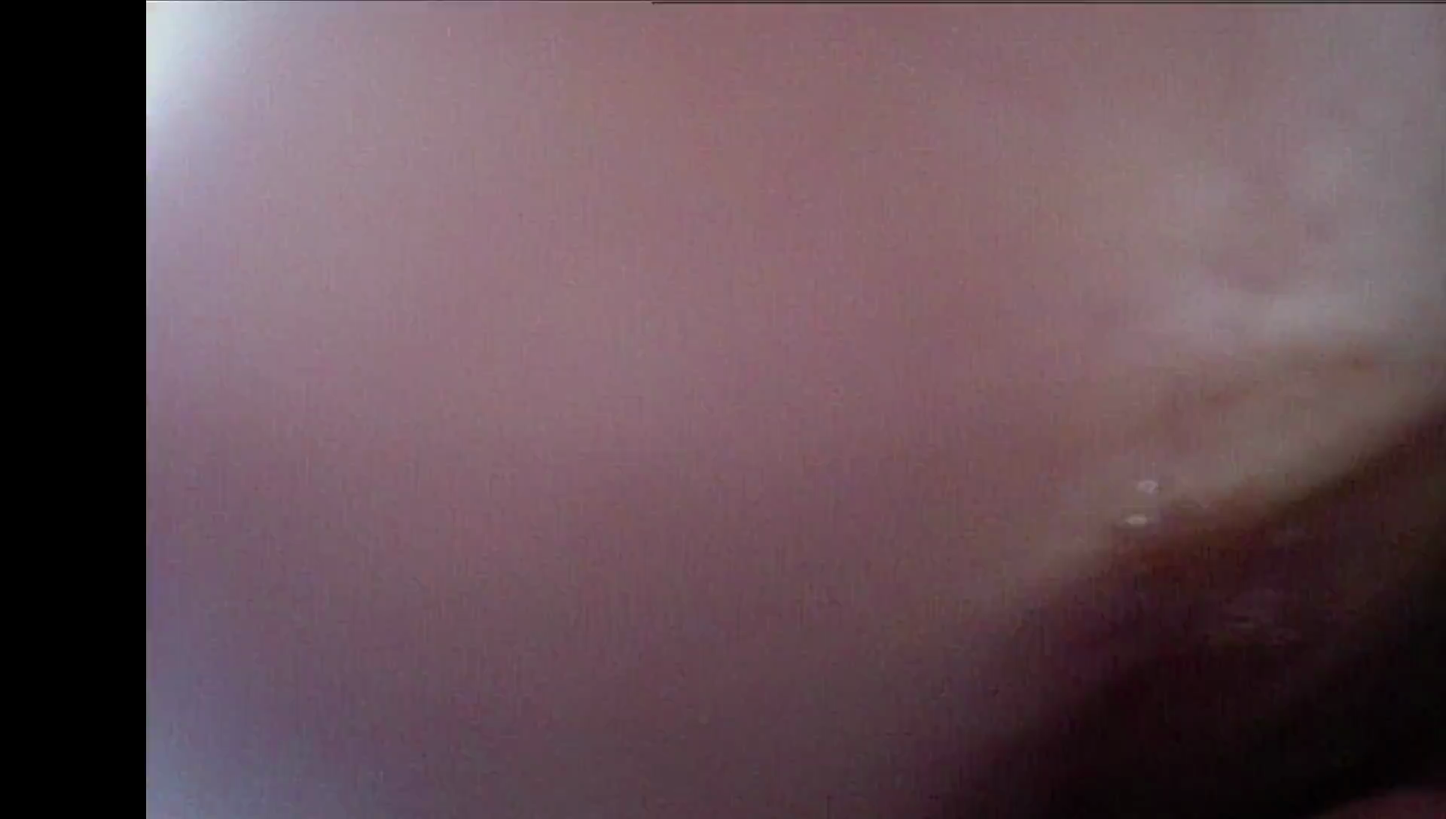close_wall: (157, 0, 489, 305), (154, 613, 459, 819)
next: (1050, 596, 1446, 819)
